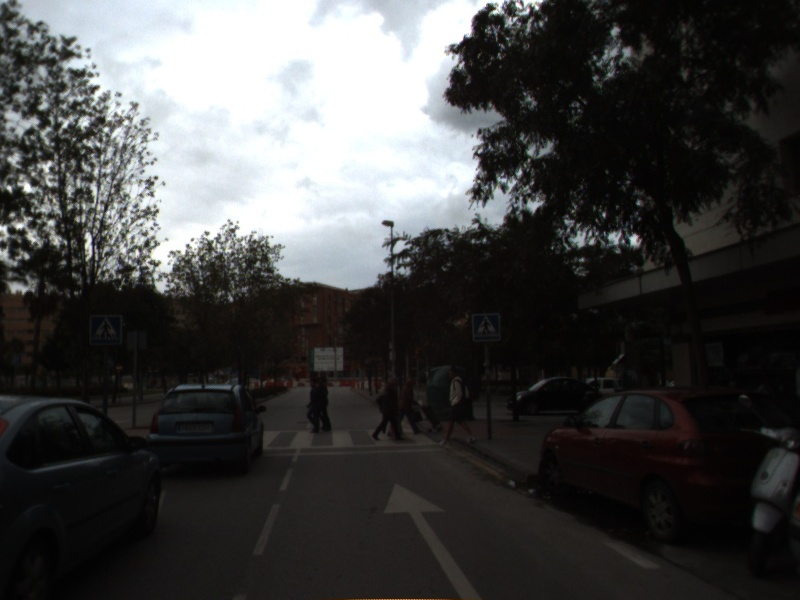STRAIGHT: (381, 480, 484, 600)
